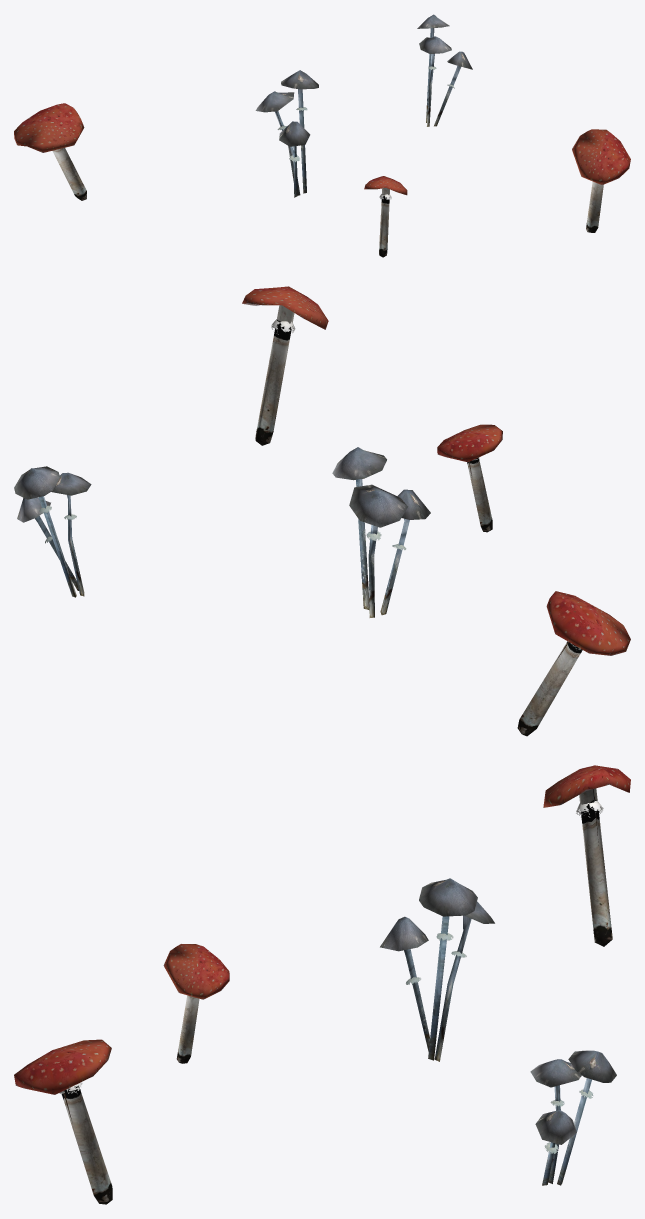
The model's file is GS_NATURE_MUSHROOM_06_GALI.glb.
The picture shows the model from 3 angles, top to bottom: view 1: azimuth 30°, elevation 25°; view 2: azimuth 150°, elevation 25°; view 3: azimuth 270°, elevation 25°; orthographic projection. The views are drawn at different scales.
Parts seen in each view (by area): view 1: Mesh; view 2: Mesh; view 3: Mesh.
Boxes of the visible parts, x1,y1,x2,y2 form: Mesh: (14,14,630,257); Mesh: (14,286,630,736); Mesh: (14,765,630,1204).
Bounding box in the file's own units: 3.12 × 0.8488 × 2.46.
1 material, 1 textured.
